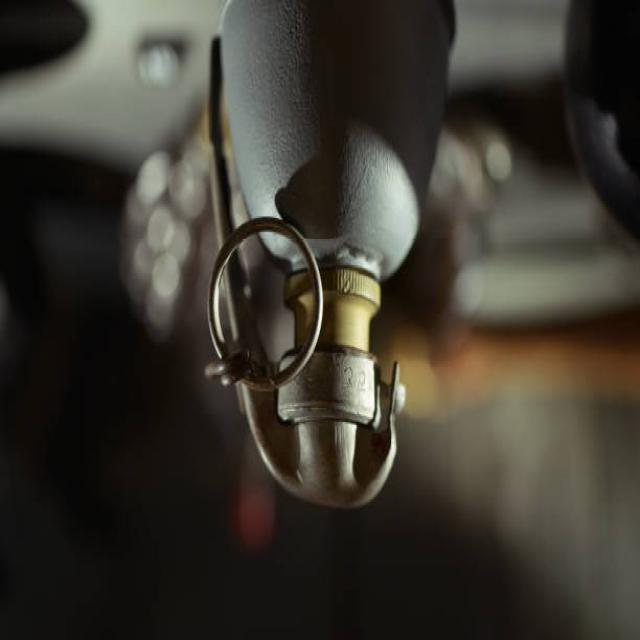grenade: (194, 1, 463, 522)
